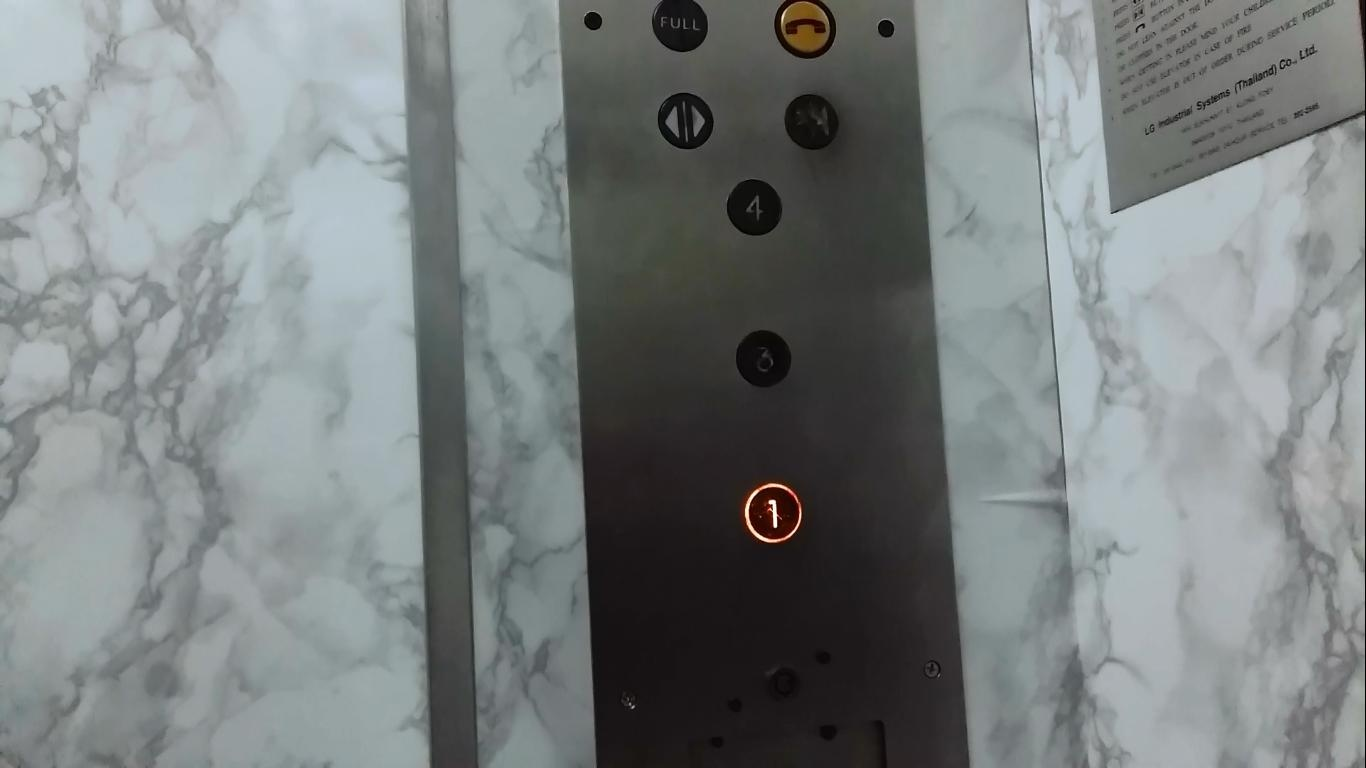1: (744, 482, 802, 546)
3: (732, 328, 794, 389)
4: (724, 177, 784, 239)
blur: (783, 91, 842, 149)
call: (772, 1, 838, 61)
open: (658, 92, 714, 151)
text_FULL: (650, 1, 709, 55)
